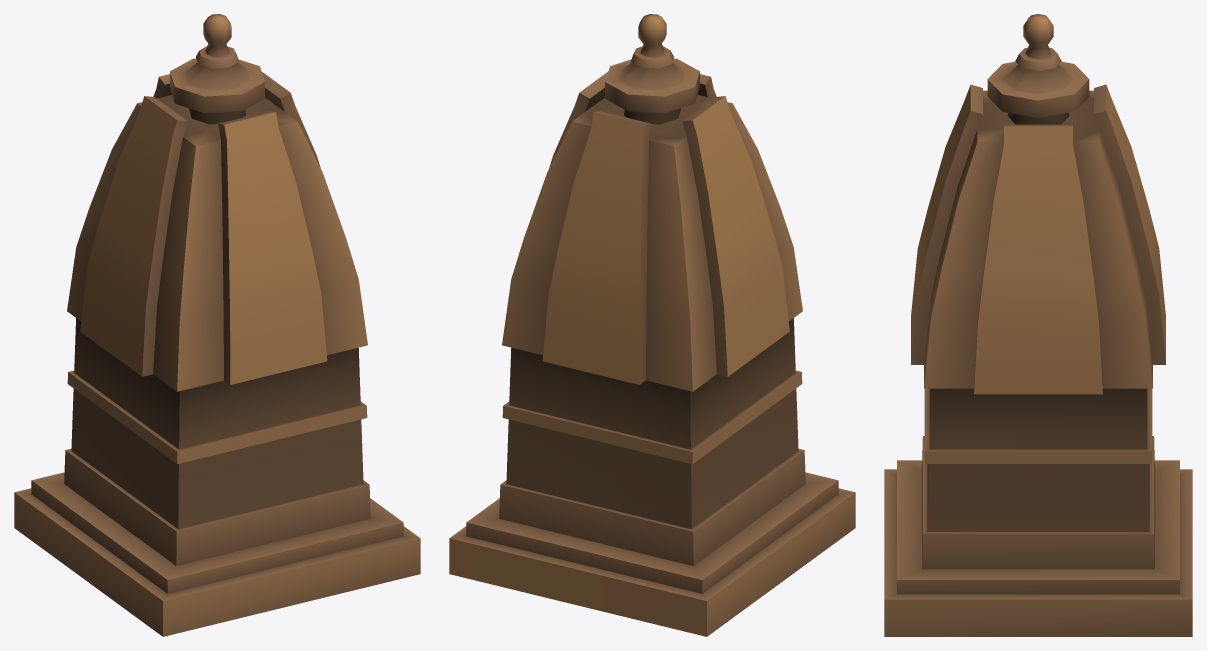
The model's file is buildings-ruins-templeruins_v11.glb.
3 views of the same model, side by side, from view 1: azimuth 30°, elevation 25°; view 2: azimuth 150°, elevation 25°; view 3: azimuth 270°, elevation 25° (orthographic). The views are drawn at different scales.
Parts seen in each view (by area): view 1: TempleRuins_v11; view 2: TempleRuins_v11; view 3: TempleRuins_v11.
Boxes of the visible parts, box(x1,y1,x2,y2) form: TempleRuins_v11: box(14, 14, 420, 636); TempleRuins_v11: box(449, 14, 855, 636); TempleRuins_v11: box(884, 14, 1192, 636).
Bounding box in the file's own units: 6.11 × 12.14 × 6.11.
